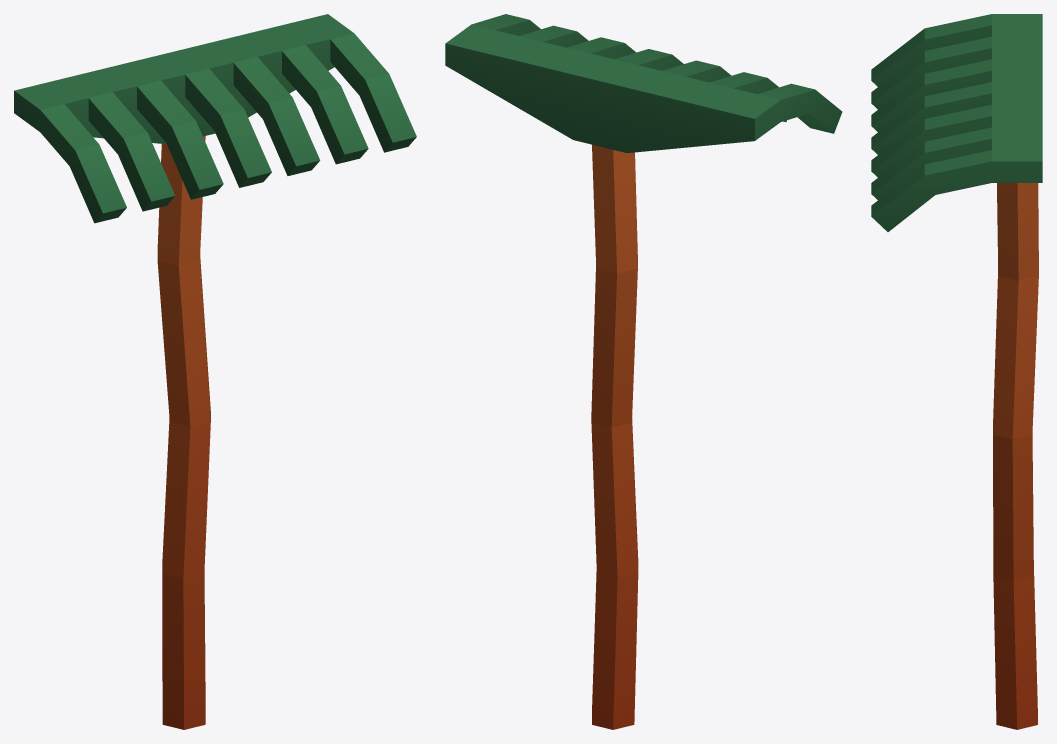
Rendered from Rake.obj.
The picture shows the model from 3 angles, left to right: view 1: azimuth 30°, elevation 25°; view 2: azimuth 150°, elevation 25°; view 3: azimuth 270°, elevation 25°; orthographic projection. The views are drawn at different scales.
Parts seen in each view (by area): view 1: Cube.002_Cube.005, Cylinder; view 2: Cube.002_Cube.005, Cylinder; view 3: Cube.002_Cube.005, Cylinder.
Part boxes in pixels (x1,y1,x2,y2): Cube.002_Cube.005: (14, 14, 416, 223); Cylinder: (157, 136, 210, 729); Cube.002_Cube.005: (445, 14, 842, 153); Cylinder: (591, 144, 638, 729); Cube.002_Cube.005: (871, 14, 1042, 231); Cylinder: (993, 183, 1038, 729).
Bounding box in the file's own units: 0.8369 × 1.67 × 0.4108.
